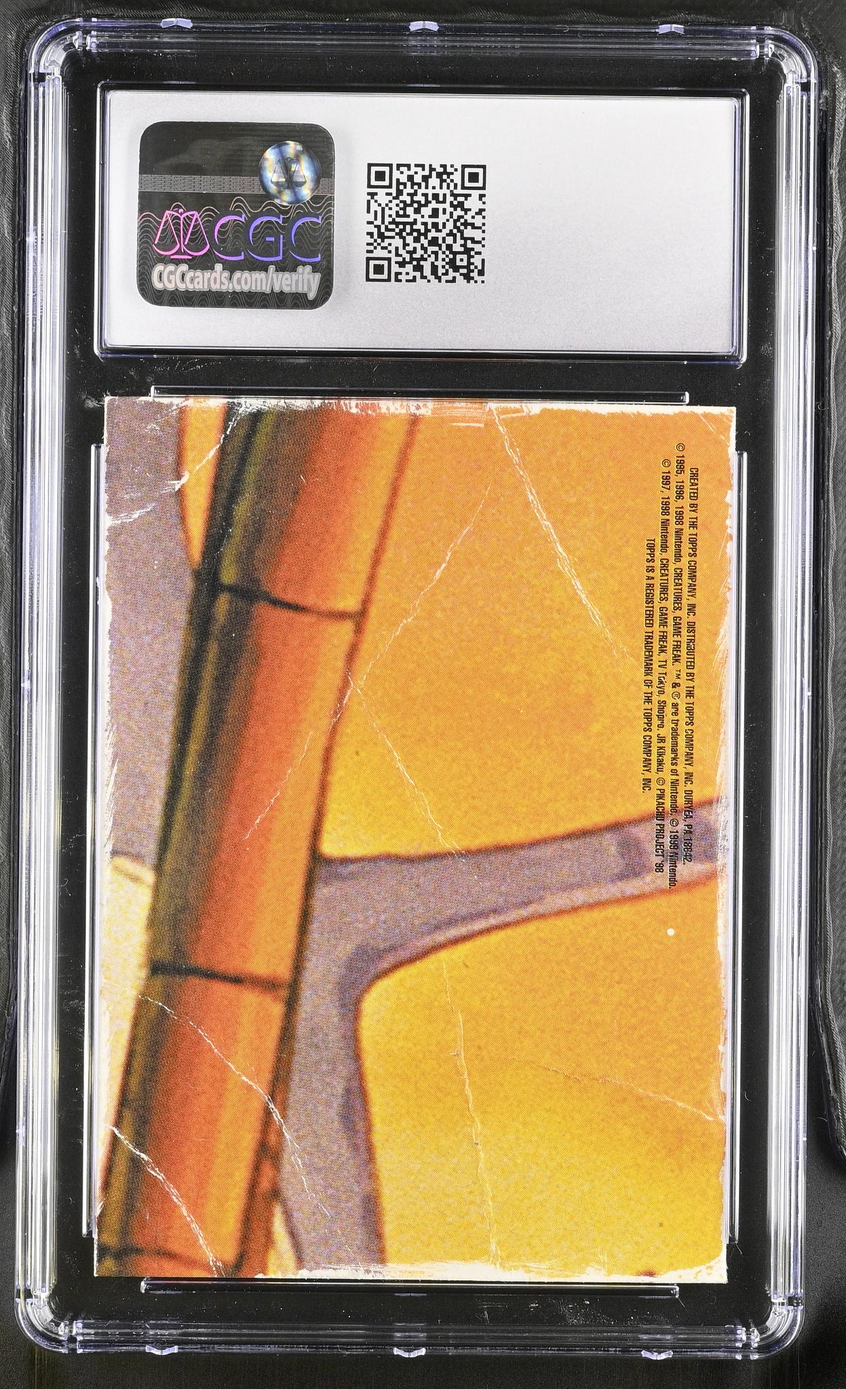card-2UtV: (94, 396, 737, 1284)
